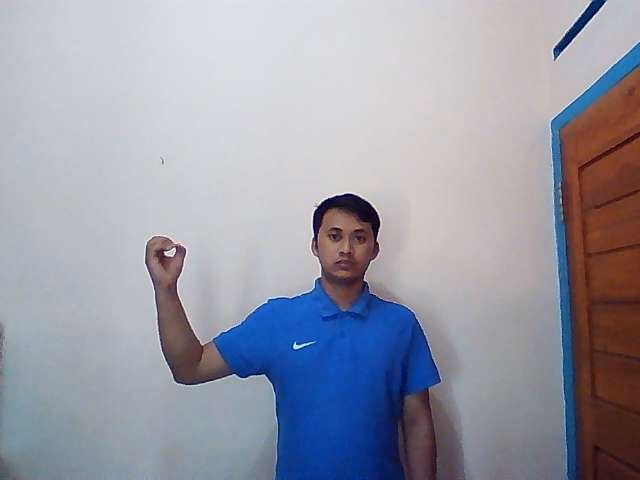O: (144, 233, 188, 290)
